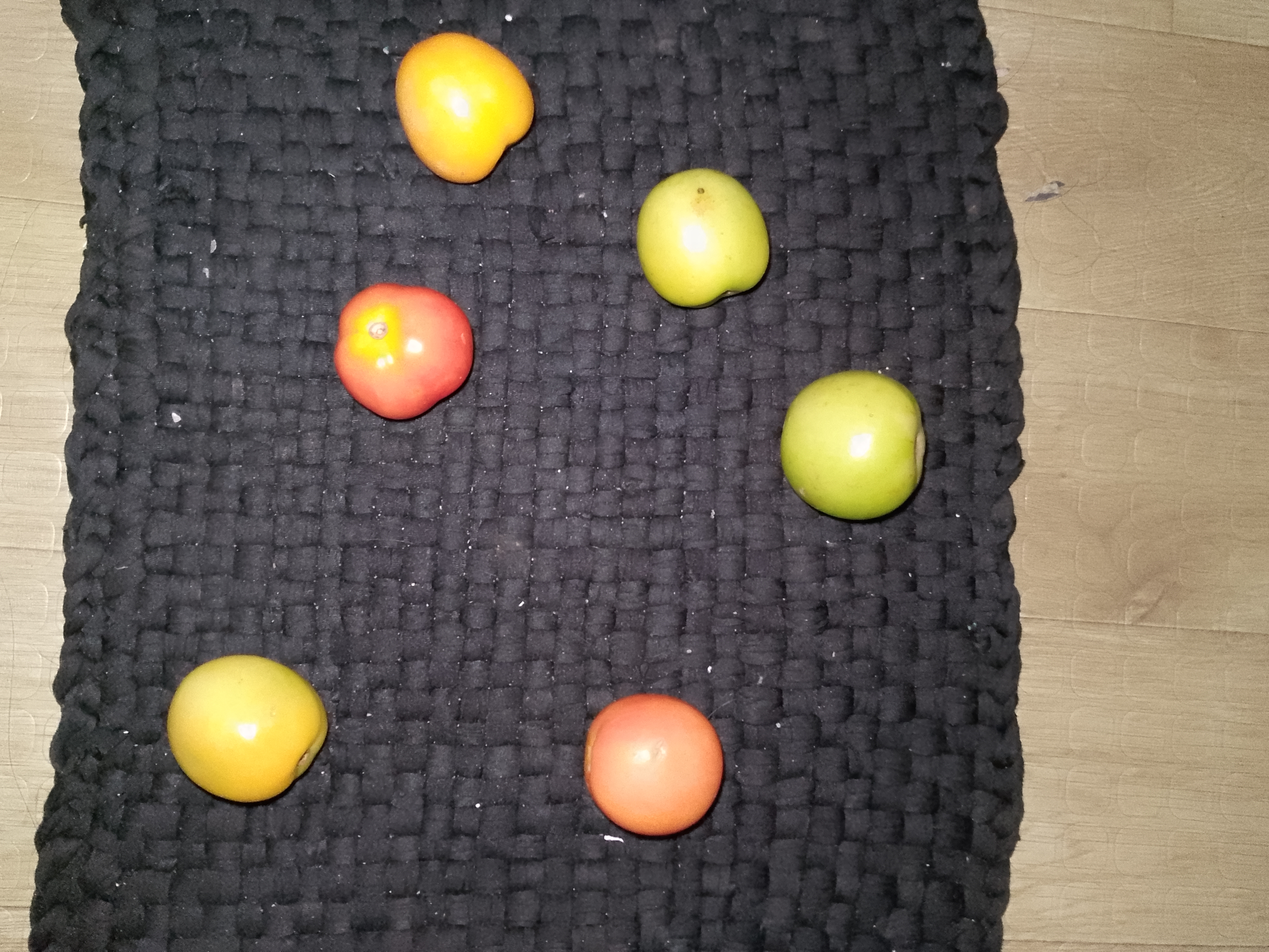Ripe: (306, 236, 504, 450), (559, 646, 745, 853)
Unripe: (117, 611, 393, 831), (621, 154, 800, 325), (765, 356, 936, 530), (370, 27, 555, 185)
